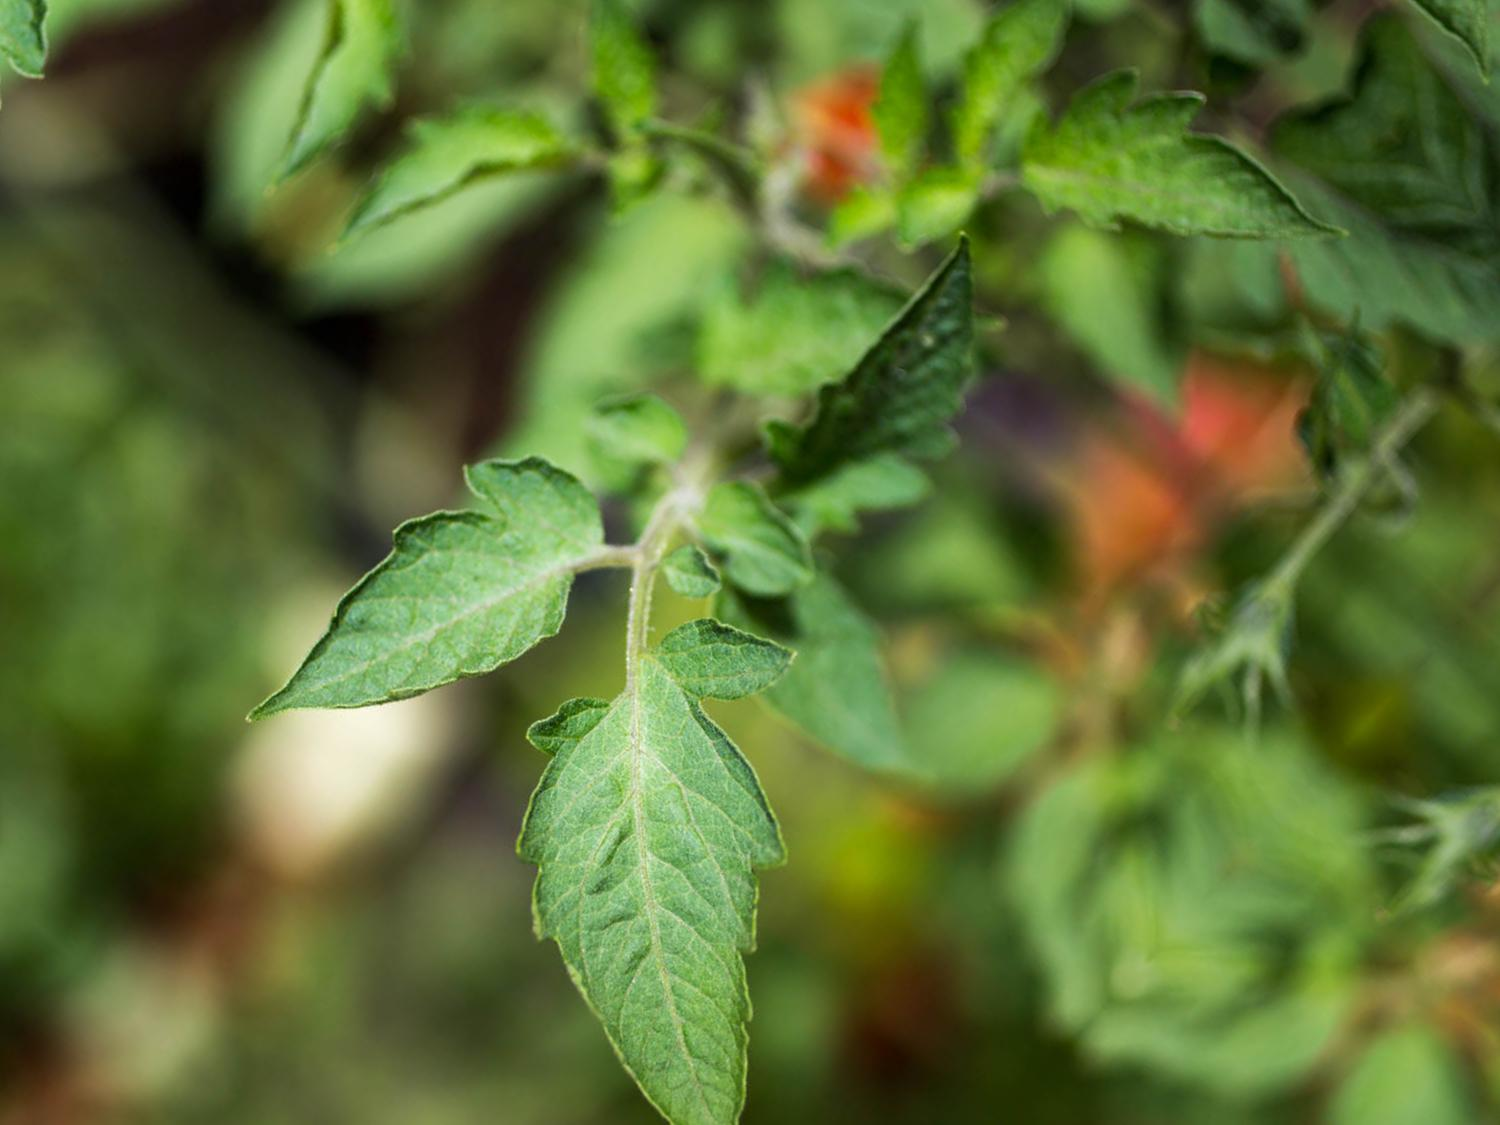Tomato leaf: (351, 604, 1032, 1125), (178, 362, 678, 878)
